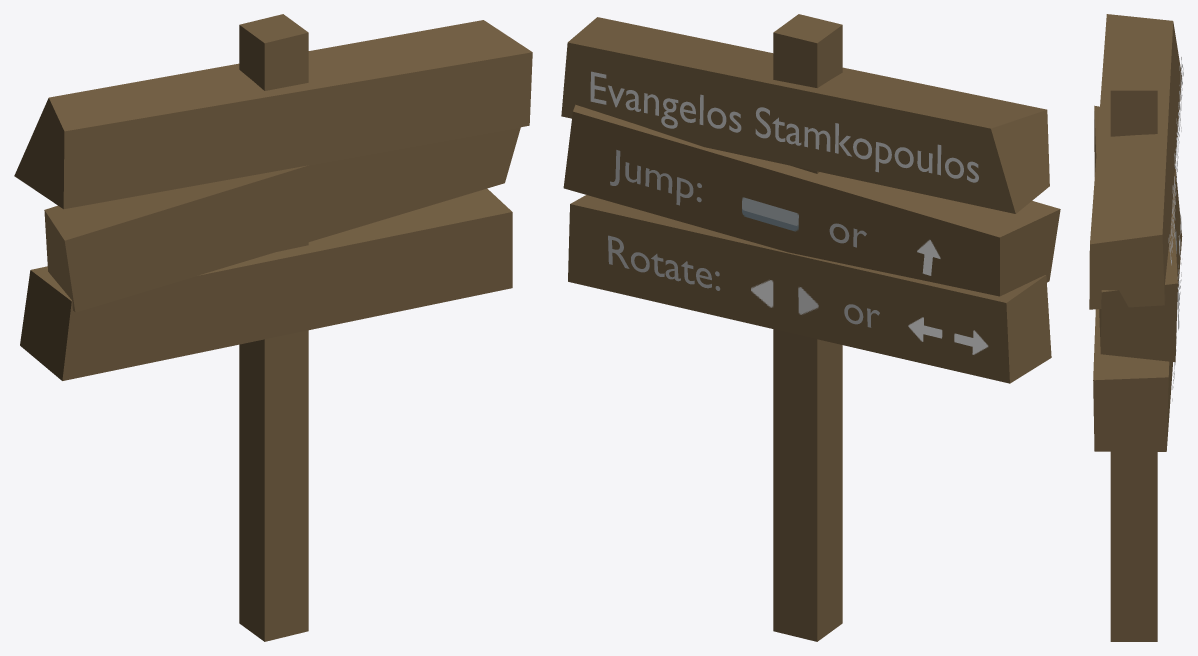
File: sign1.gltf
3 views of the same model, side by side, from view 1: azimuth 30°, elevation 25°; view 2: azimuth 150°, elevation 25°; view 3: azimuth 270°, elevation 25° (orthographic). The views are drawn at different scales.
Visible parts, largest first — view 1: Cube.001; view 2: Cube.001, Text, Text.002, Text.001, icons8-space-key-48; view 3: Cube.001, Text.
Boxes of the visible parts, left/top/right/bottom form: Cube.001: left=14, top=14, right=532, bottom=641; Cube.001: left=561, top=14, right=1060, bottom=641; Text: left=590, top=71, right=978, bottom=182; Text.002: left=608, top=235, right=879, bottom=327; Text.001: left=610, top=150, right=866, bottom=247; icons8-space-key-48: left=742, top=197, right=798, bottom=231; Cube.001: left=1089, top=14, right=1182, bottom=641; Text: left=1168, top=57, right=1183, bottom=265.
Bounding box in the file's own units: 2.14 × 2.6 × 0.4023.
8 materials, 6 textured.
